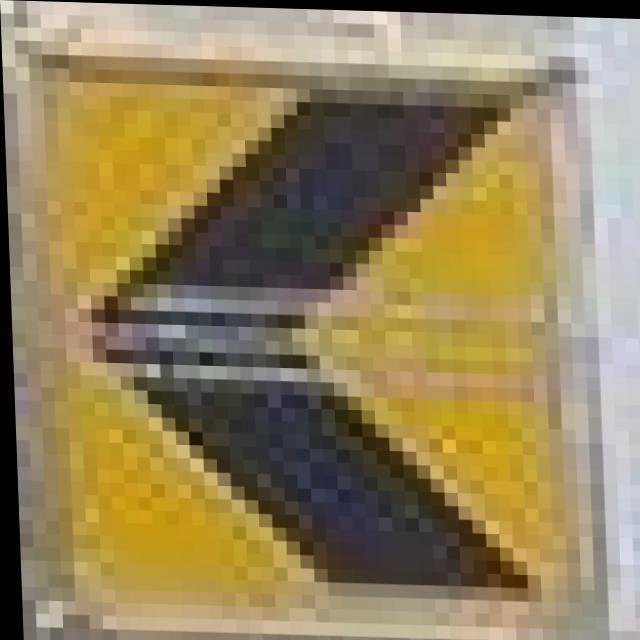DIRECTION: (38, 30, 570, 621)
